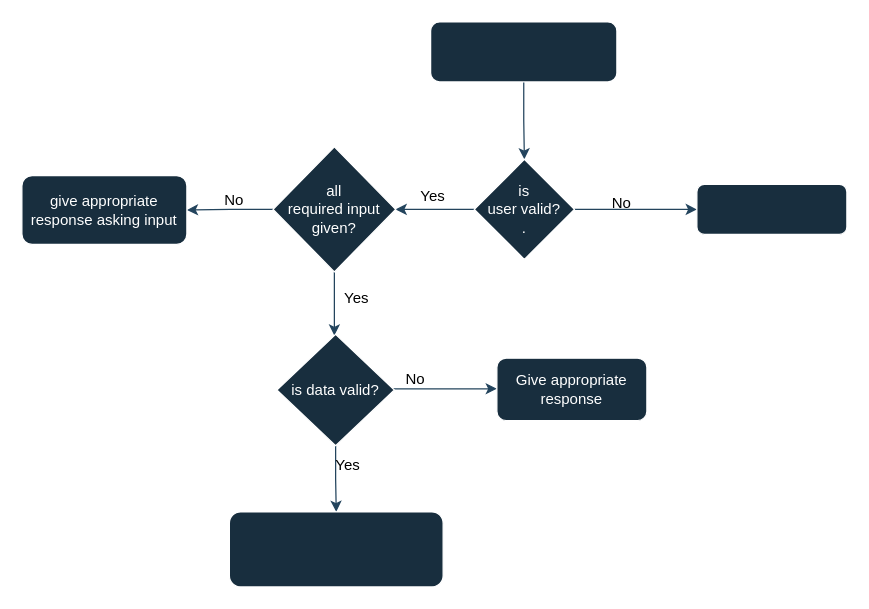
Image size: 869x609. Some labels were removed from this diagram. The box of each missing label's shape, as (x1, y1, x2, y2) in pixels:
Edit Review: (429, 21, 617, 82)
Invalid User: (696, 183, 847, 234)
Review Updated: (228, 511, 443, 587)
